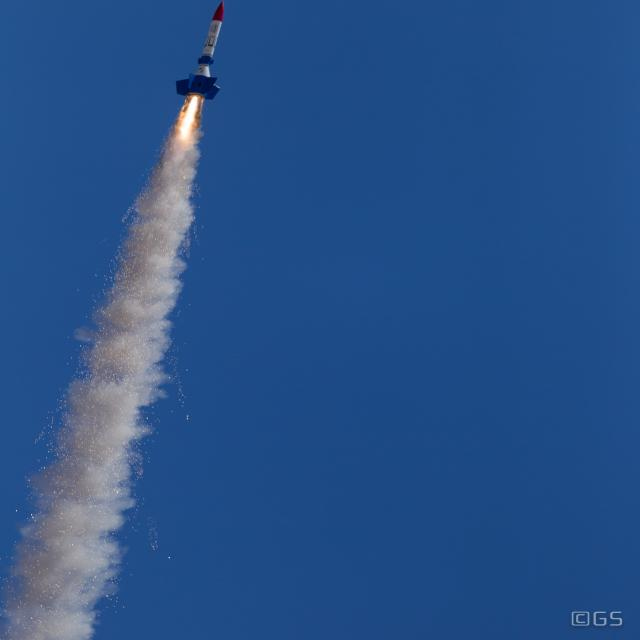Rocket: (174, 0, 225, 100)
